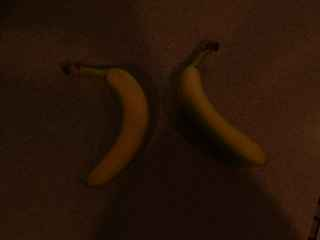banana: (173, 39, 274, 171), (58, 59, 153, 193)
